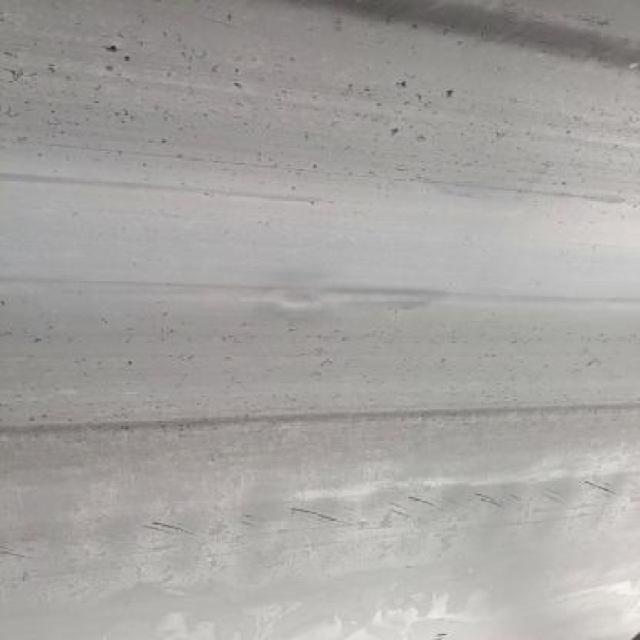Impact Damage: (242, 278, 328, 320)
Puncture: (389, 77, 413, 91), (442, 85, 459, 100), (104, 43, 122, 55)
Tear: (259, 474, 350, 532), (391, 467, 477, 520), (133, 510, 218, 550), (580, 460, 634, 516)
